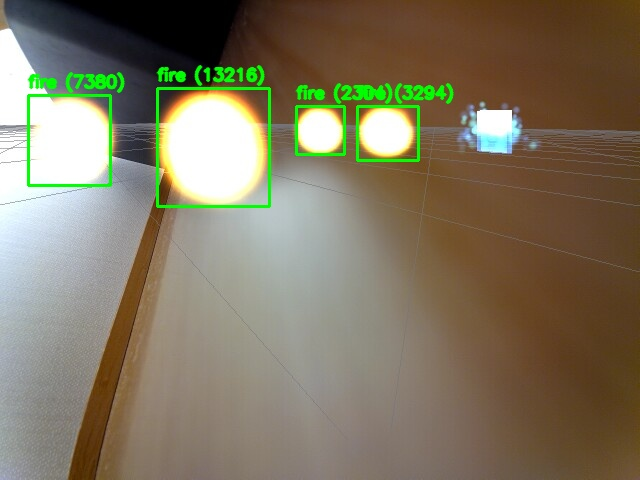fire: (157, 88, 269, 206), (28, 95, 110, 185), (357, 106, 418, 160), (296, 106, 344, 154)
